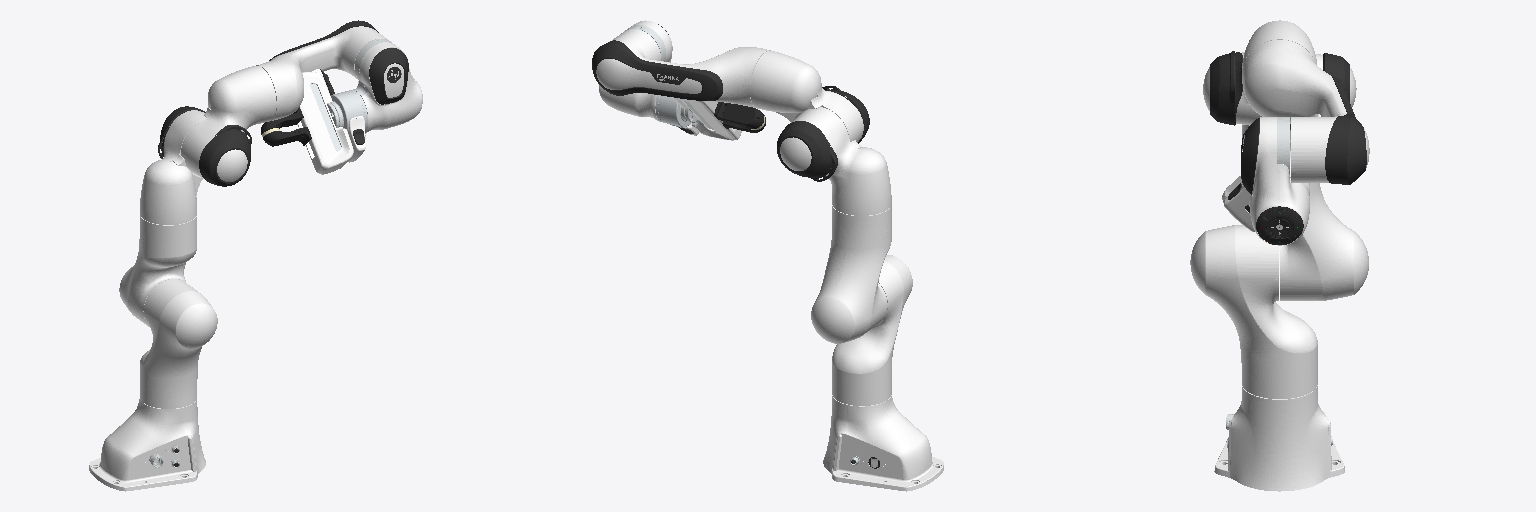
robot.urdf — panda:
<?xml version="1.0" encoding="utf-8"?>
<!-- =================================================================================== -->
<!-- |    This document was autogenerated by xacro from panda_arm_hand.urdf.xacro      | -->
<!-- |    EDITING THIS FILE BY HAND IS NOT RECOMMENDED                                 | -->
<!-- =================================================================================== -->
<robot name="panda" xmlns:xacro="http://www.ros.org/wiki/xacro">
  <link name="panda_link0">
    <visual>
      <geometry>
        <mesh filename="link0.dae"/>
      </geometry>
    </visual>
    <collision>
      <geometry>
        <mesh filename="franka_description/meshes/collision/link0.stl"/>
      </geometry>
    </collision>
  </link>
  <link name="panda_link1">
    <visual>
      <geometry>
        <mesh filename="link1.dae"/>
      </geometry>
    </visual>
    <collision>
      <geometry>
        <mesh filename="franka_description/meshes/collision/link1.stl"/>
      </geometry>
    </collision>
  </link>
  <joint name="panda_joint1" type="revolute">
    <safety_controller k_position="100.0" k_velocity="40.0" soft_lower_limit="-2.8973" soft_upper_limit="2.8973"/>
    <origin rpy="0 0 0" xyz="0 0 0.333"/>
    <parent link="panda_link0"/>
    <child link="panda_link1"/>
    <axis xyz="0 0 1"/>
    <limit effort="87" lower="-2.8973" upper="2.8973" velocity="2.1750"/>
  </joint>
  <link name="panda_link2">
    <visual>
      <geometry>
        <mesh filename="link2.dae"/>
      </geometry>
    </visual>
    <collision>
      <geometry>
        <mesh filename="franka_description/meshes/collision/link2.stl"/>
      </geometry>
    </collision>
  </link>
  <joint name="panda_joint2" type="revolute">
    <safety_controller k_position="100.0" k_velocity="40.0" soft_lower_limit="-1.7628" soft_upper_limit="1.7628"/>
    <origin rpy="-1.57079632679 0 0" xyz="0 0 0"/>
    <parent link="panda_link1"/>
    <child link="panda_link2"/>
    <axis xyz="0 0 1"/>
    <limit effort="87" lower="-1.7628" upper="1.7628" velocity="2.1750"/>
  </joint>
  <link name="panda_link3">
    <visual>
      <geometry>
        <mesh filename="link3.dae"/>
      </geometry>
    </visual>
    <collision>
      <geometry>
        <mesh filename="franka_description/meshes/collision/link3.stl"/>
      </geometry>
    </collision>
  </link>
  <joint name="panda_joint3" type="revolute">
    <safety_controller k_position="100.0" k_velocity="40.0" soft_lower_limit="-2.8973" soft_upper_limit="2.8973"/>
    <origin rpy="1.57079632679 0 0" xyz="0 -0.316 0"/>
    <parent link="panda_link2"/>
    <child link="panda_link3"/>
    <axis xyz="0 0 1"/>
    <limit effort="87" lower="-2.8973" upper="2.8973" velocity="2.1750"/>
  </joint>
  <link name="panda_link4">
    <visual>
      <geometry>
        <mesh filename="link4.dae"/>
      </geometry>
    </visual>
    <collision>
      <geometry>
        <mesh filename="franka_description/meshes/collision/link4.stl"/>
      </geometry>
    </collision>
  </link>
  <joint name="panda_joint4" type="revolute">
    <safety_controller k_position="100.0" k_velocity="40.0" soft_lower_limit="-3.0718" soft_upper_limit="-0.0698"/>
    <origin rpy="1.57079632679 0 0" xyz="0.0825 0 0"/>
    <parent link="panda_link3"/>
    <child link="panda_link4"/>
    <axis xyz="0 0 1"/>
    <limit effort="87" lower="-3.0718" upper="-0.0698" velocity="2.1750"/>
  </joint>
  <link name="panda_link5">
    <visual>
      <geometry>
        <mesh filename="link5.dae"/>
      </geometry>
    </visual>
    <collision>
      <geometry>
        <mesh filename="franka_description/meshes/collision/link5.stl"/>
      </geometry>
    </collision>
  </link>
  <joint name="panda_joint5" type="revolute">
    <safety_controller k_position="100.0" k_velocity="40.0" soft_lower_limit="-2.8973" soft_upper_limit="2.8973"/>
    <origin rpy="-1.57079632679 0 0" xyz="-0.0825 0.384 0"/>
    <parent link="panda_link4"/>
    <child link="panda_link5"/>
    <axis xyz="0 0 1"/>
    <limit effort="12" lower="-2.8973" upper="2.8973" velocity="2.6100"/>
  </joint>
  <link name="panda_link6">
    <visual>
      <geometry>
        <mesh filename="link6.dae"/>
      </geometry>
    </visual>
    <collision>
      <geometry>
        <mesh filename="franka_description/meshes/collision/link6.stl"/>
      </geometry>
    </collision>
  </link>
  <joint name="panda_joint6" type="revolute">
    <safety_controller k_position="100.0" k_velocity="40.0" soft_lower_limit="-0.0175" soft_upper_limit="3.7525"/>
    <origin rpy="1.57079632679 0 0" xyz="0 0 0"/>
    <parent link="panda_link5"/>
    <child link="panda_link6"/>
    <axis xyz="0 0 1"/>
    <limit effort="12" lower="-0.0175" upper="3.7525" velocity="2.6100"/>
  </joint>
  <link name="panda_link7">
    <visual>
      <geometry>
        <mesh filename="link7.dae"/>
      </geometry>
    </visual>
    <collision>
      <geometry>
        <mesh filename="franka_description/meshes/collision/link7.stl"/>
      </geometry>
    </collision>
  </link>
  <joint name="panda_joint7" type="revolute">
    <safety_controller k_position="100.0" k_velocity="40.0" soft_lower_limit="-2.8973" soft_upper_limit="2.8973"/>
    <origin rpy="1.57079632679 0 0" xyz="0.088 0 0"/>
    <parent link="panda_link6"/>
    <child link="panda_link7"/>
    <axis xyz="0 0 1"/>
    <limit effort="12" lower="-2.8973" upper="2.8973" velocity="2.6100"/>
  </joint>
  <link name="panda_link8"/>
  <joint name="panda_joint8" type="fixed">
    <origin rpy="0 0 0" xyz="0 0 0.107"/>
    <parent link="panda_link7"/>
    <child link="panda_link8"/>
    <axis xyz="0 0 0"/>
  </joint>
  <joint name="panda_hand_joint" type="fixed">
    <parent link="panda_link8"/>
    <child link="panda_hand"/>
    <origin rpy="0 0 -0.785398163397" xyz="0 0 0"/>
  </joint>
  <link name="panda_hand">
    <visual>
      <geometry>
        <mesh filename="hand.dae"/>
      </geometry>
    </visual>
    <collision>
      <geometry>
        <mesh filename="franka_description/meshes/collision/hand.stl"/>
      </geometry>
    </collision>
  </link>

  <link name="left_gelslim">
    <visual>
      <origin rpy="-1.5707963268 1.5707963268 0" xyz="0 0.003 0"/>
      <geometry>
        <mesh filename="gelslim.dae"/>
      </geometry>
    </visual>
    <collision>
      <origin rpy="-1.5707963268 1.5707963268 0" xyz="0 0.003 0"/>
      <geometry>
        <mesh filename="gelslim.dae"/>
      </geometry>
    </collision>
  </link>

  <link name="right_gelslim">
    <visual>
      <origin rpy="1.5707963268 1.5707963268 0" xyz="0 -0.003 0"/>
      <geometry>
        <mesh filename="gelslim.dae"/>
      </geometry>
    </visual>
    <collision>
      <origin rpy="1.5707963268 1.5707963268 0" xyz="0 -0.003 0"/>
      <geometry>
        <mesh filename="gelslim.dae"/>
      </geometry>
    </collision>
  </link>

  <joint name="panda_finger_joint1" type="prismatic">
    <parent link="panda_hand"/>
    <child link="left_gelslim"/>
    <origin rpy="0 0 0" xyz="0 0 0.1334"/>
    <axis xyz="0 1 0"/>
    <limit effort="20" lower="0.0" upper="0.04" velocity="0.2"/>
  </joint>
  <joint name="panda_finger_joint2" type="prismatic">
    <parent link="panda_hand"/>
    <child link="right_gelslim"/>
    <origin rpy="0 0 0" xyz="0 0 0.1334"/>
    <axis xyz="0 -1 0"/>
    <limit effort="20" lower="0.0" upper="0.04" velocity="0.2"/>
  </joint>
  <!-- <joint name="panda_finger_joint2" type="prismatic">
    <parent link="panda_hand"/>
    <child link="panda_rightfinger"/>
    <origin rpy="0 0 0" xyz="0 0 0.0584"/>
    <axis xyz="0 -1 0"/>
    <limit effort="20" lower="0.0" upper="0.04" velocity="0.2"/>
    <mimic joint="panda_finger_joint1"/>
  </joint> -->
</robot>

--- What the picture shows (computed from the rendered views, not written in the file) ---
The picture shows the robot from 3 angles, left to right: view 1: azimuth 30°, elevation 25°; view 2: azimuth 150°, elevation 25°; view 3: azimuth 270°, elevation 25°; orthographic projection.
Robot: panda — 12 links, 11 joints (7 revolute, 2 prismatic, 2 fixed); root link panda_link0; default pose: all joints at 0 but 1 set to mid-range because 0 is outside their limits (panda_joint4 = -1.57).
Visible links, largest first — view 1: panda_link0, panda_link1, panda_link4, panda_link3, panda_link5, panda_link6, panda_link2, panda_hand, panda_link7, left_gelslim; view 2: panda_link0, panda_link5, panda_link2, panda_link3, panda_link1, panda_link4, panda_link6, panda_hand, right_gelslim, panda_link7; view 3: panda_link1, panda_link5, panda_link0, panda_link2, panda_link6, panda_link4, panda_link3, panda_link7.
Boxes of the visible links, x1=… form: panda_link0: x1=89, y1=399, x2=205, y2=491; panda_link1: x1=140, y1=279, x2=217, y2=408; panda_link4: x1=181, y1=66, x2=276, y2=186; panda_link3: x1=140, y1=106, x2=206, y2=224; panda_link5: x1=256, y1=20, x2=387, y2=121; panda_link6: x1=353, y1=39, x2=422, y2=133; panda_link2: x1=119, y1=216, x2=196, y2=326; panda_hand: x1=297, y1=69, x2=353, y2=174; panda_link7: x1=330, y1=90, x2=367, y2=162; left_gelslim: x1=262, y1=127, x2=311, y2=146; panda_link0: x1=823, y1=395, x2=943, y2=491; panda_link5: x1=592, y1=29, x2=770, y2=107; panda_link2: x1=811, y1=205, x2=891, y2=343; panda_link3: x1=777, y1=107, x2=891, y2=215; panda_link1: x1=832, y1=255, x2=912, y2=405; panda_link4: x1=750, y1=51, x2=869, y2=143; panda_link6: x1=599, y1=20, x2=672, y2=121; panda_hand: x1=673, y1=97, x2=741, y2=140; right_gelslim: x1=714, y1=102, x2=764, y2=129; panda_link7: x1=655, y1=95, x2=698, y2=135; panda_link1: x1=1190, y1=225, x2=1317, y2=398; panda_link5: x1=1242, y1=40, x2=1369, y2=184; panda_link0: x1=1214, y1=385, x2=1344, y2=491; panda_link2: x1=1280, y1=183, x2=1368, y2=300; panda_link6: x1=1241, y1=117, x2=1309, y2=245; panda_link4: x1=1203, y1=20, x2=1316, y2=125; panda_link3: x1=1242, y1=53, x2=1356, y2=137; panda_link7: x1=1224, y1=151, x2=1309, y2=231.
Size in the robot's own frame: 0.7022 by 0.2593 by 0.7865 metres.
11 mesh visuals loaded from 10 distinct referenced files (10 Collada DAE).